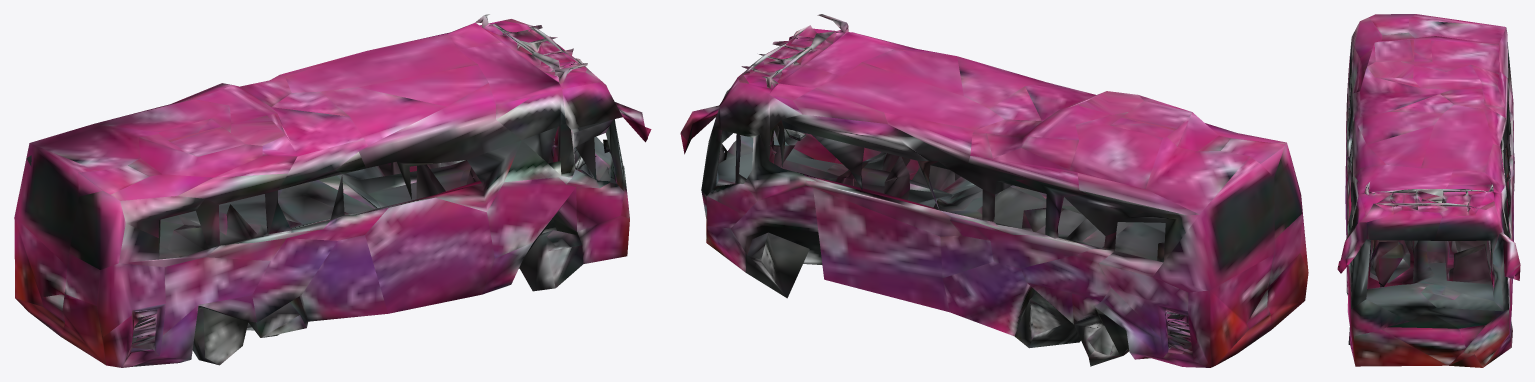
Rendered from pink_2.glb.
3 renders of one model, left to right at view 1: azimuth 30°, elevation 25°; view 2: azimuth 150°, elevation 25°; view 3: azimuth 270°, elevation 25°, orthographic. The views are drawn at different scales.
Parts seen in each view (by area): view 1: tripo_node_097b1cc8-ca91-4cbd-a672-da3f293bc084; view 2: tripo_node_097b1cc8-ca91-4cbd-a672-da3f293bc084; view 3: tripo_node_097b1cc8-ca91-4cbd-a672-da3f293bc084.
Boxes of the visible parts, x1,y1,x2,y2 form: tripo_node_097b1cc8-ca91-4cbd-a672-da3f293bc084: [14, 14, 651, 367]; tripo_node_097b1cc8-ca91-4cbd-a672-da3f293bc084: [680, 14, 1308, 367]; tripo_node_097b1cc8-ca91-4cbd-a672-da3f293bc084: [1337, 14, 1520, 367].
Bounding box in the file's own units: 0.9922 × 0.3696 × 0.3534.
Materials: 1 (1 with a texture image).
